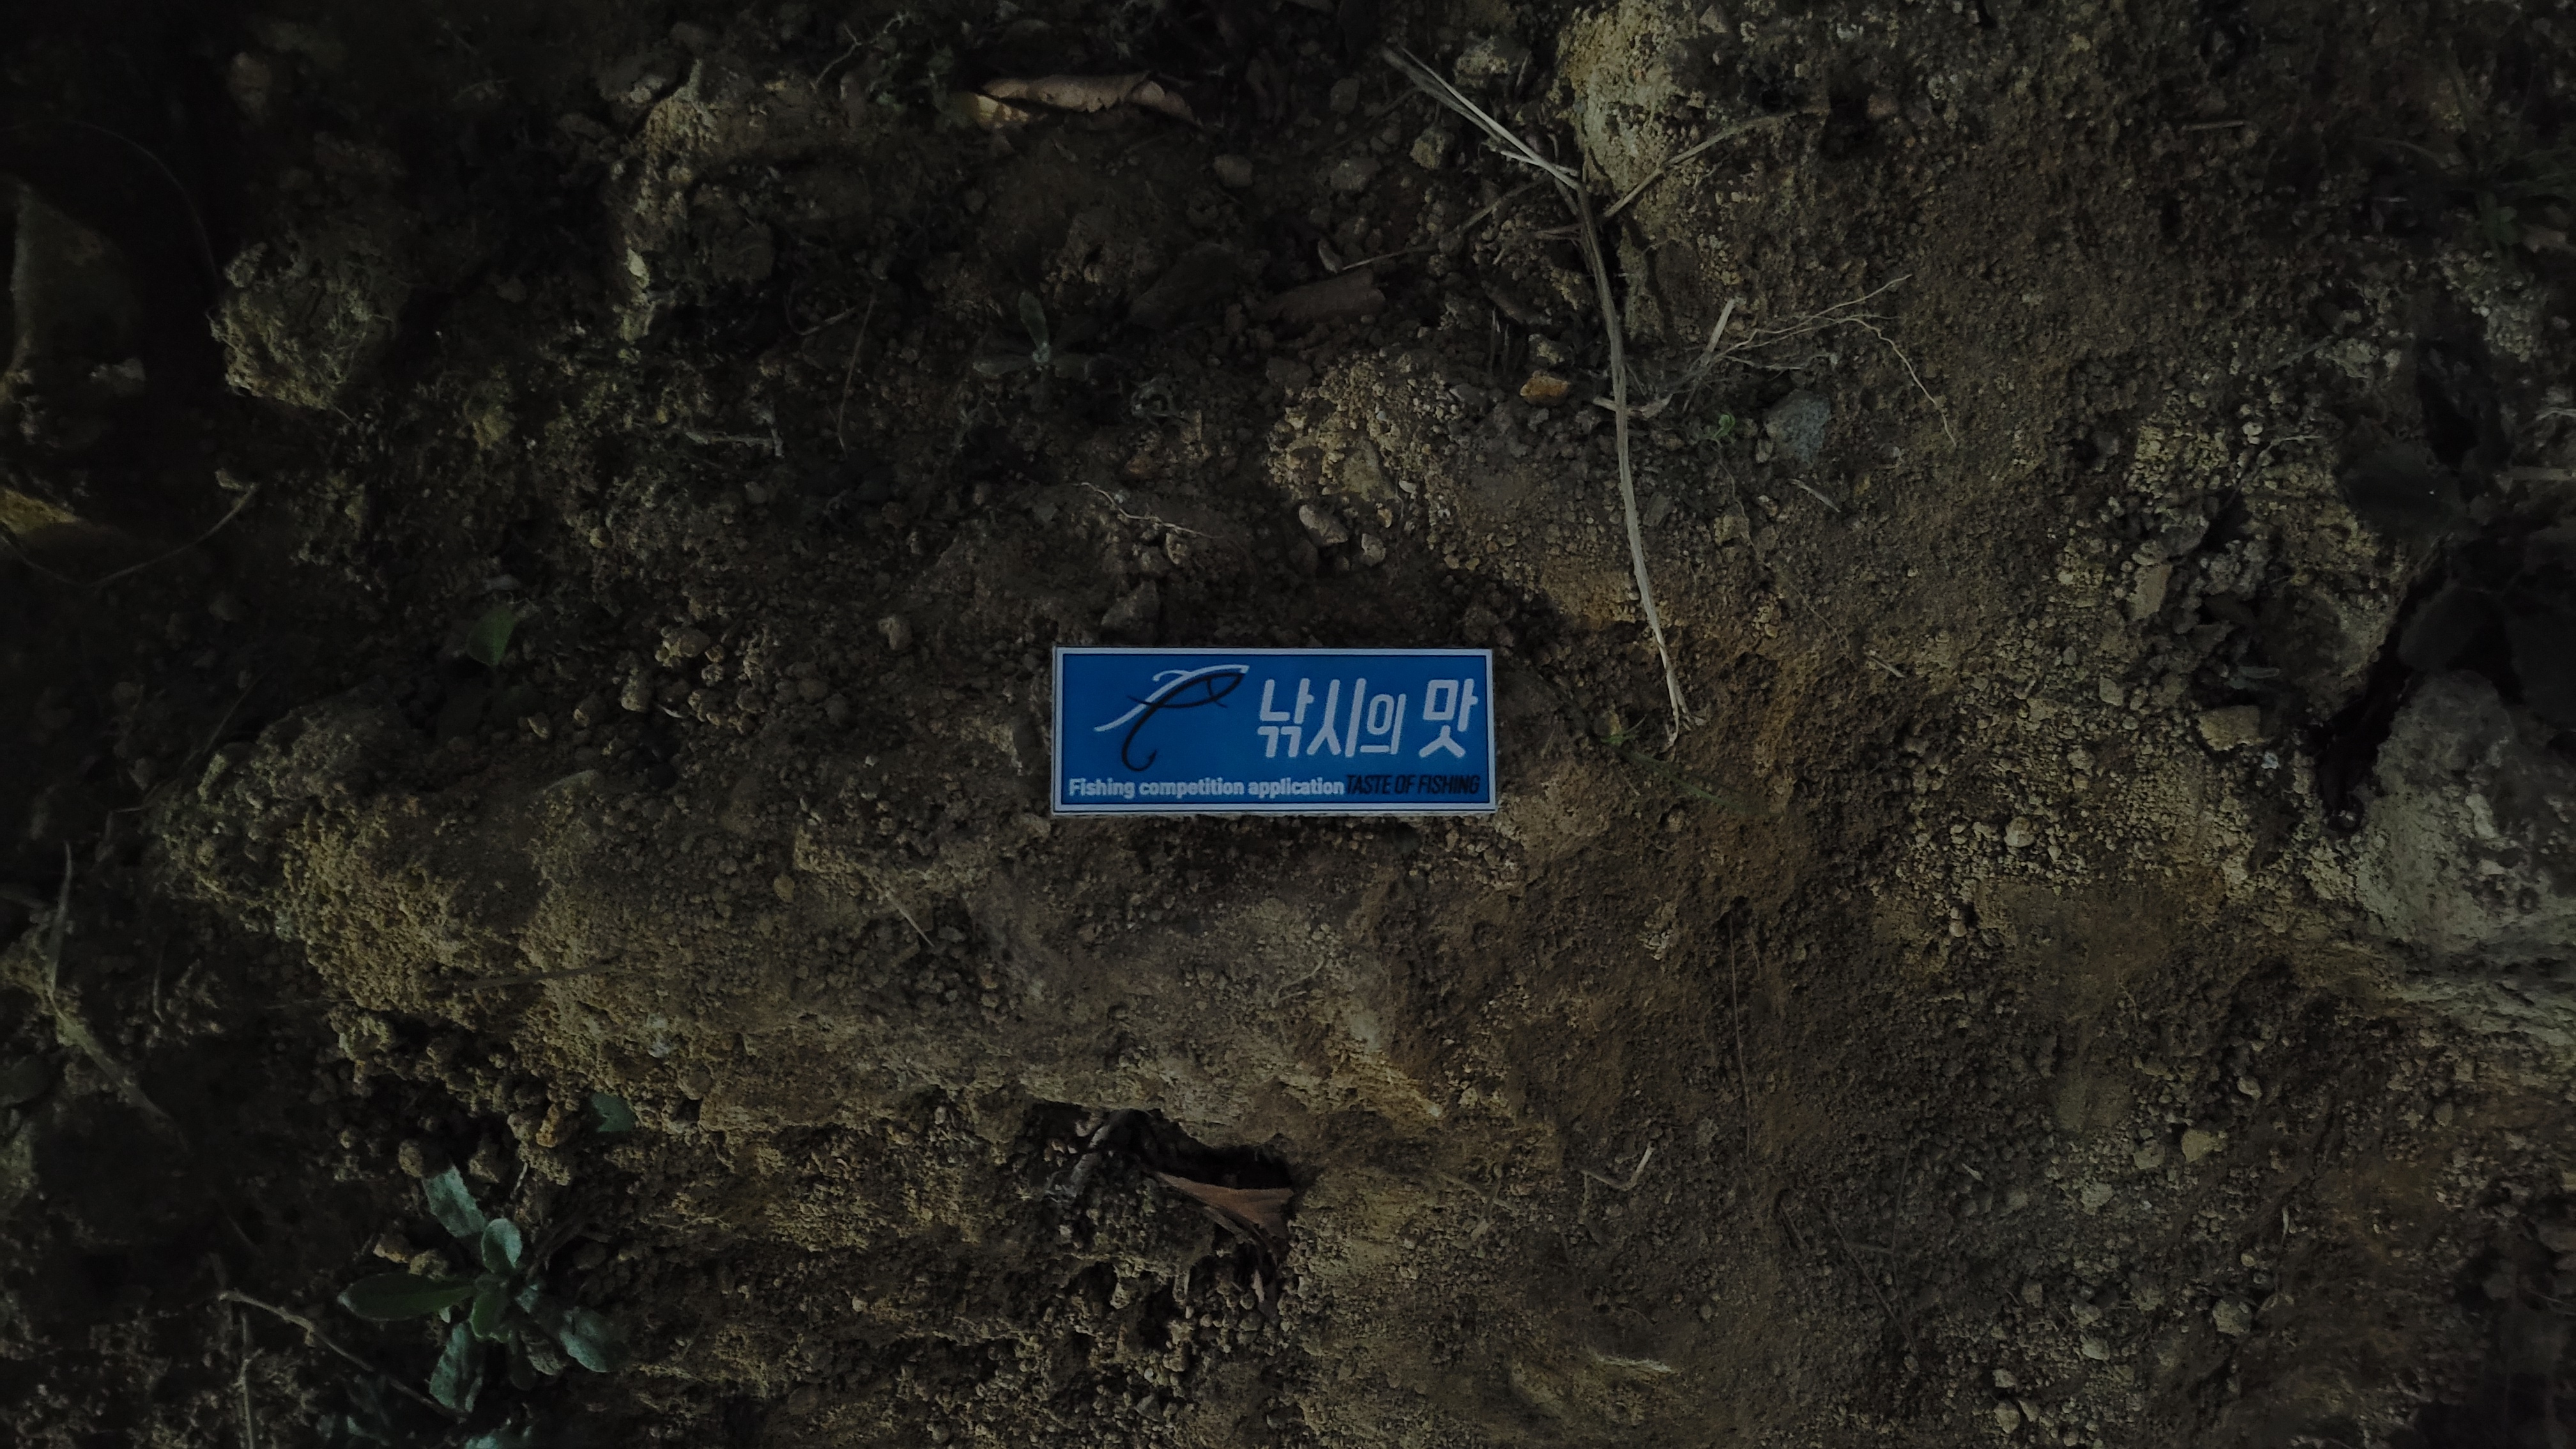tag: (1049, 646, 1499, 817)
